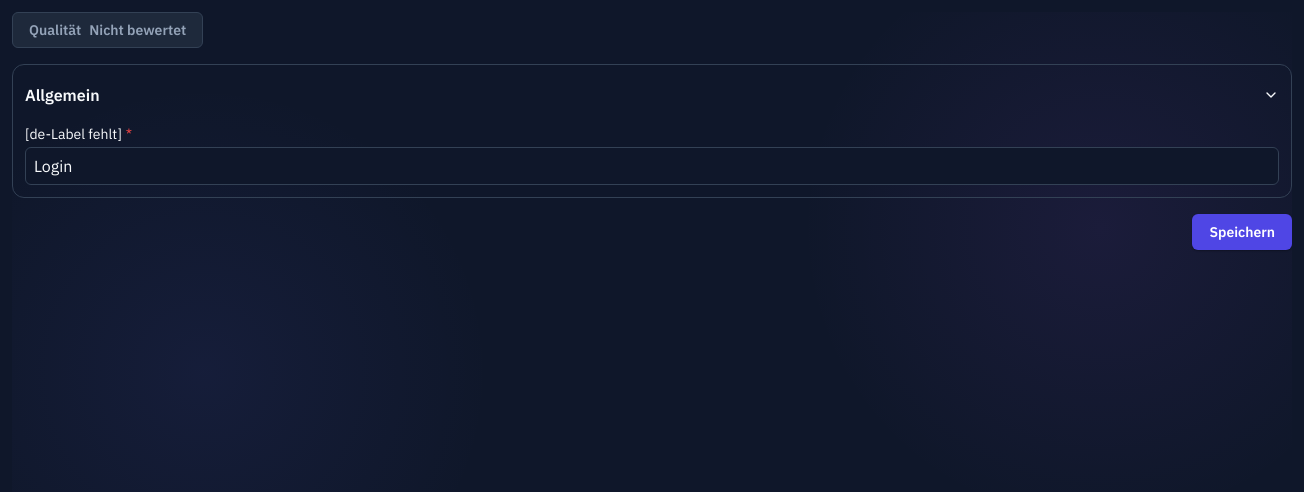
Test: Detail save guard (#1239) › Requirement: sends exactly one PATCH and adopts the server-returned version (standard)
Replace the text in the field with test id "artifact-field-title" with "Login (edited)" at (652, 166), box [25,147,1279,185]
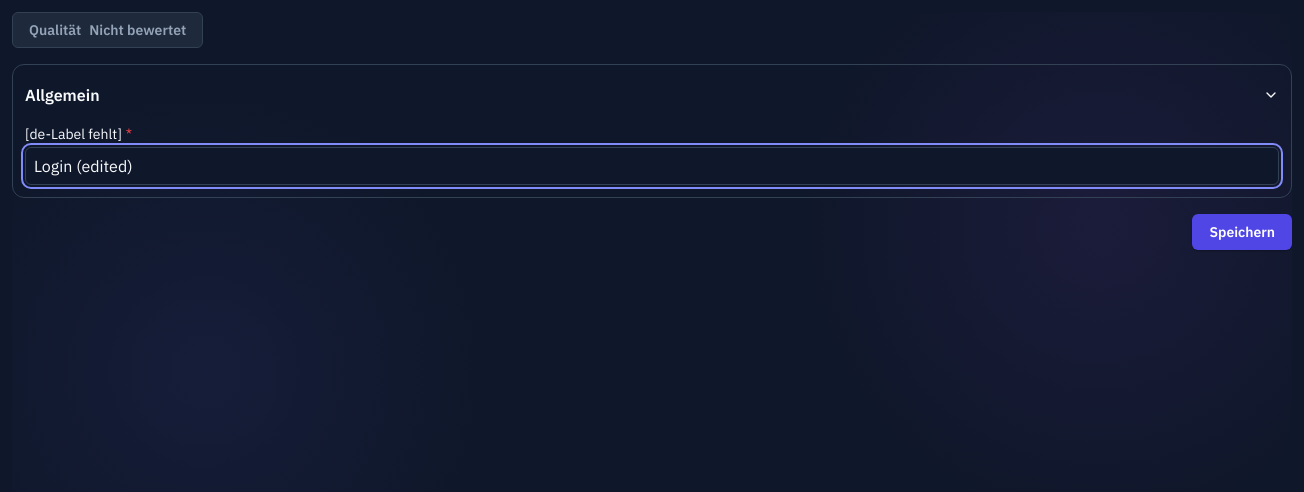
Click the button with test id "artifact-form-save" at (1242, 232), box [1192,214,1292,250]
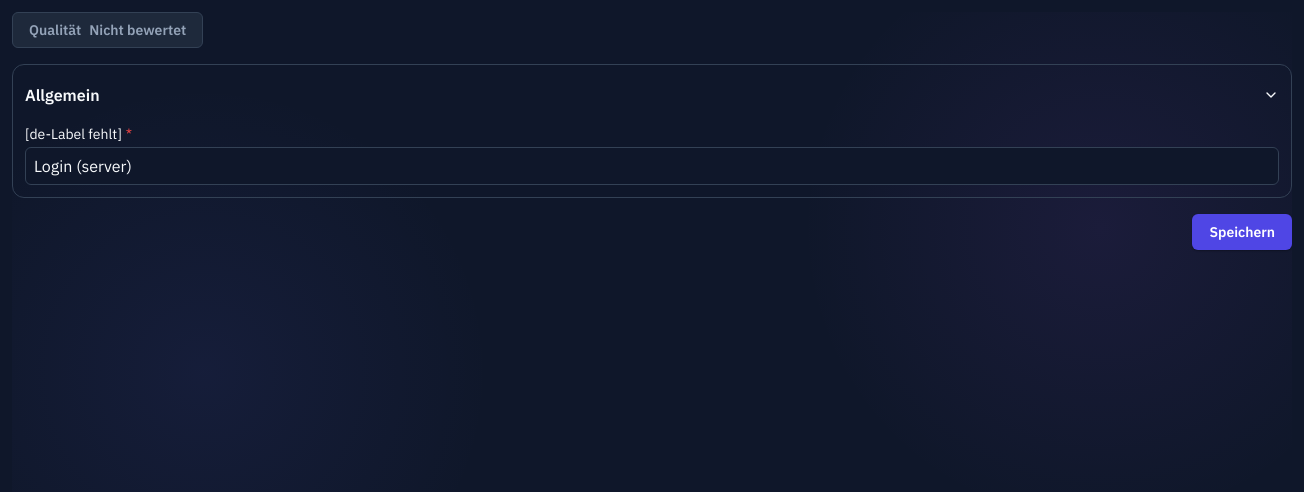
Expected: the field with test id "artifact-field-title" holds "Login (server)", [25,147,1279,185]
